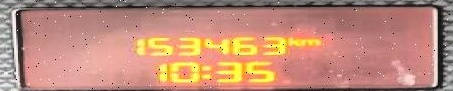1: (153, 61, 167, 82), (134, 36, 144, 55)
3: (215, 60, 241, 82), (172, 36, 198, 55), (260, 36, 283, 55)
4: (201, 37, 227, 54)
5: (243, 60, 274, 82), (144, 36, 170, 56)
6: (231, 36, 255, 56)
X: (198, 63, 212, 80), (286, 35, 302, 46), (302, 37, 319, 45)
